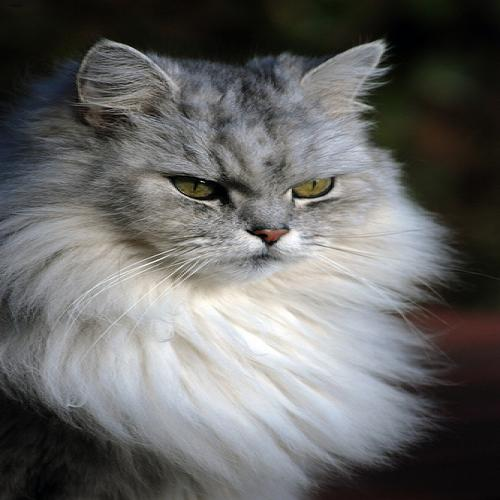persian: (58, 33, 400, 298)
